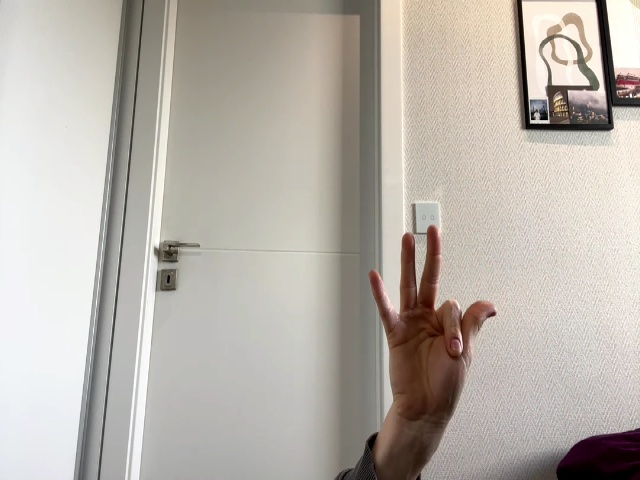F: (369, 225, 497, 432)
